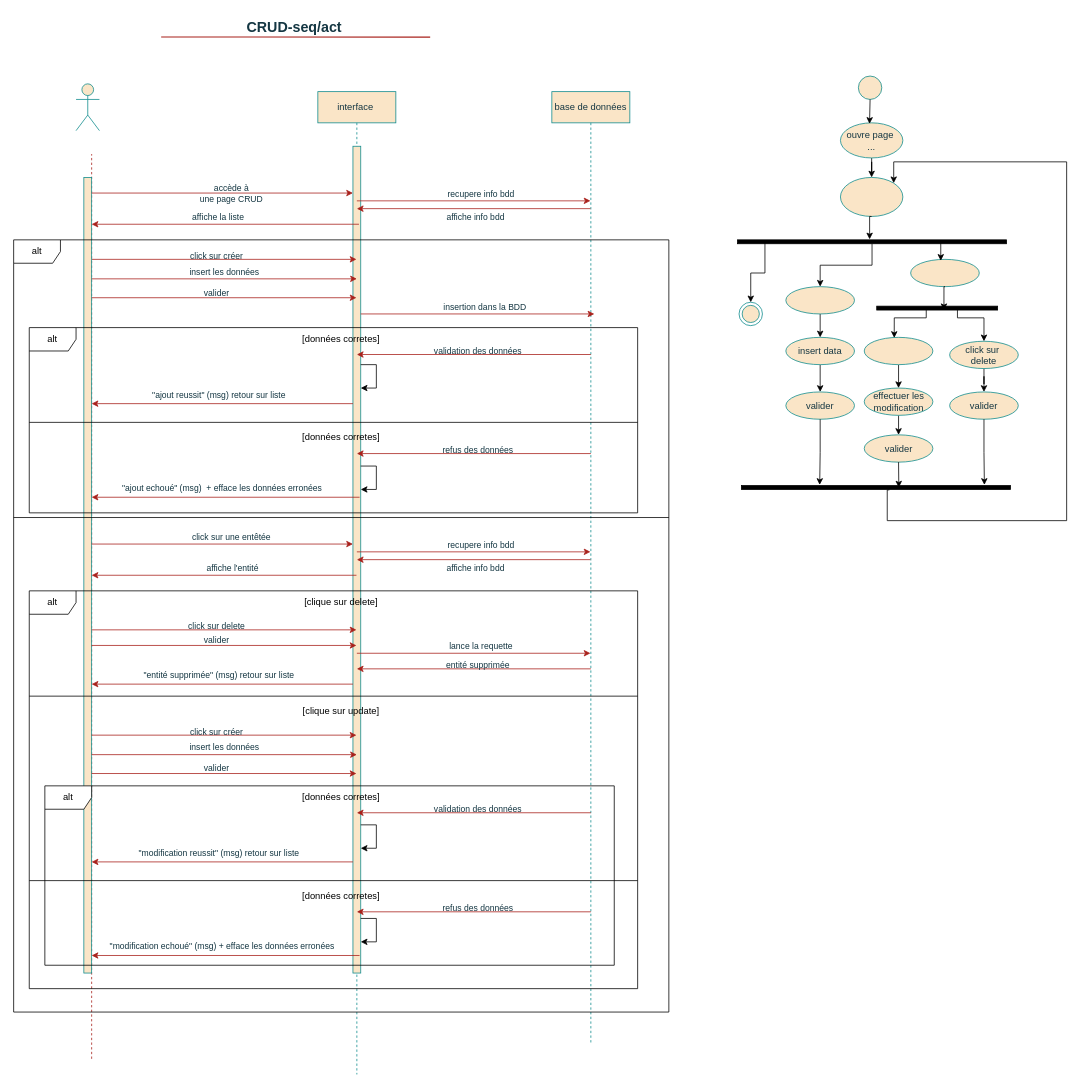
The diagram is 1087 pixels wide and 1089 high, and some of its shapes have lost their labels. Each missing label, with the box of its shape:
%creatorName% | %date{mmmm d, yyyy}%: (44, 37, 544, 49)
Actor: (75, 83, 99, 131)
click sur imprimer: (785, 286, 854, 314)
click sur modifier: (863, 337, 933, 365)
click sur une entité: (910, 259, 979, 287)
lis les données: (840, 177, 903, 216)
